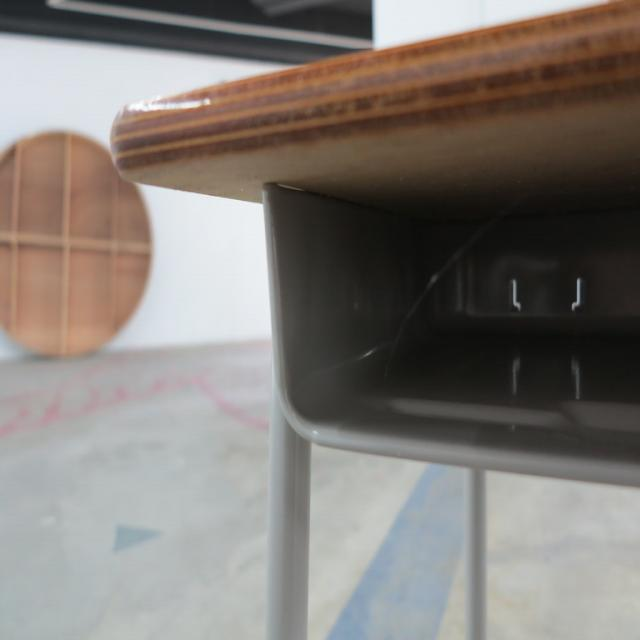desk: (111, 0, 640, 639)
